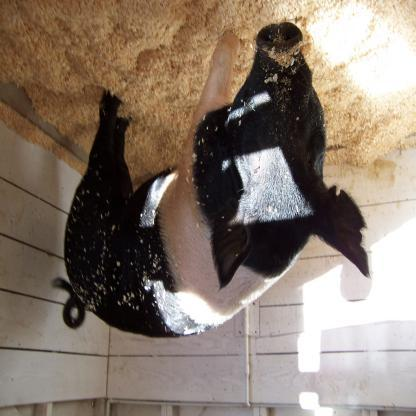boar: (51, 22, 372, 339)
